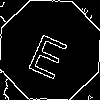E: (25, 25, 75, 80)
